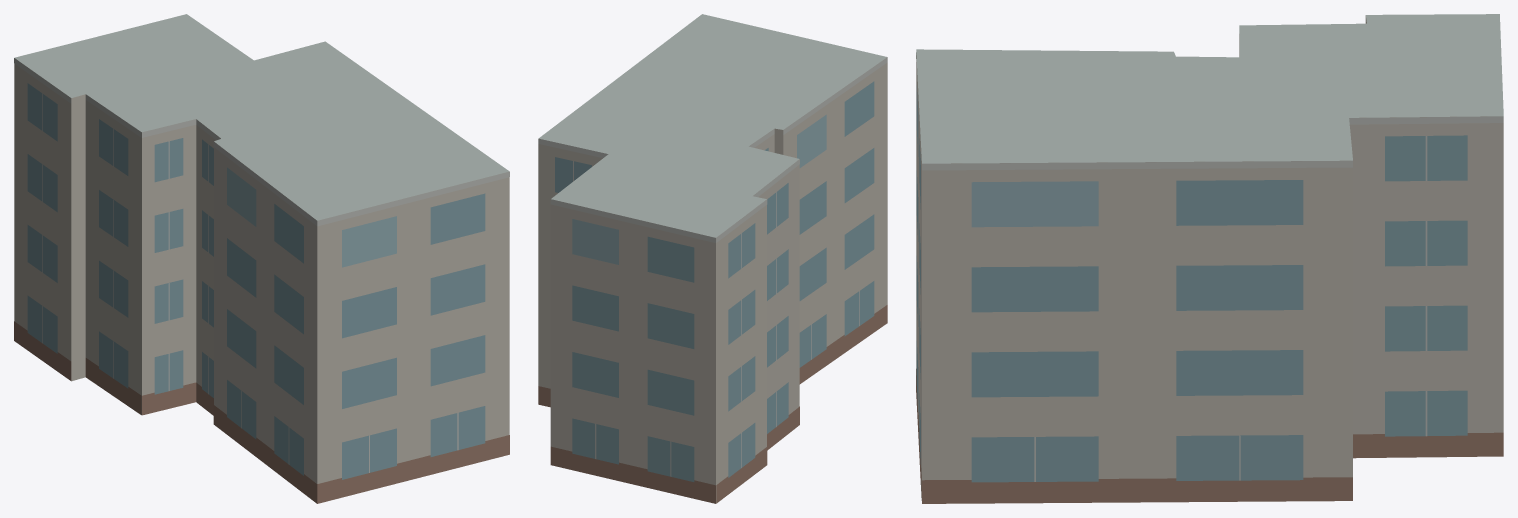
Rendered from survey-upis-32462104.glb.
3 renders of one model, left to right at view 1: azimuth 30°, elevation 25°; view 2: azimuth 150°, elevation 25°; view 3: azimuth 270°, elevation 25°, orthographic. The views are drawn at different scales.
Visible parts, largest first — view 1: survey-upis-32462104.tmp; view 2: survey-upis-32462104.tmp; view 3: survey-upis-32462104.tmp.
Boxes of the visible parts, bbox=[...] form: survey-upis-32462104.tmp: bbox=[14, 14, 509, 503]; survey-upis-32462104.tmp: bbox=[538, 14, 887, 503]; survey-upis-32462104.tmp: bbox=[916, 14, 1503, 503].
Size of the model in its own units: 11.52 by 12.2 by 19.11.
